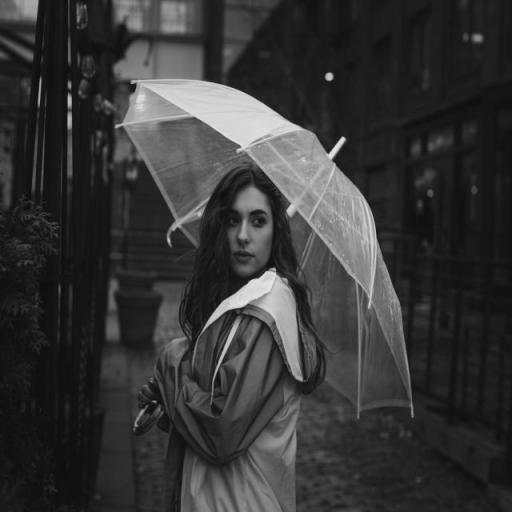guarda_chuva: (115, 76, 415, 434)
